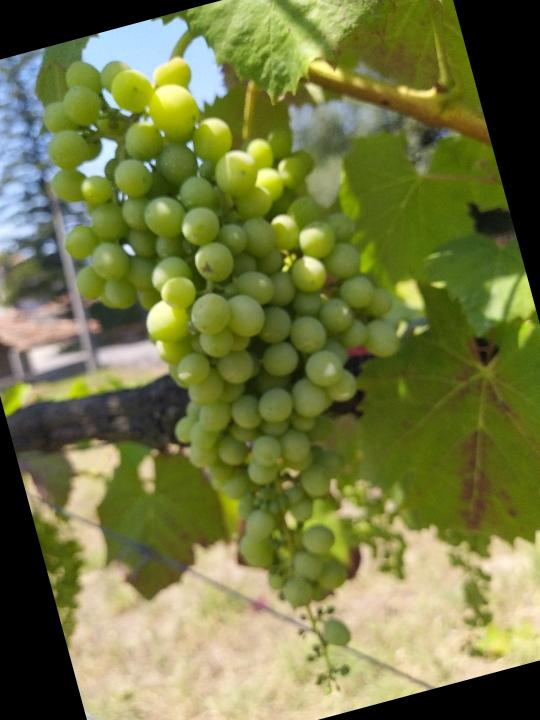grape: (12, 0, 487, 720)
